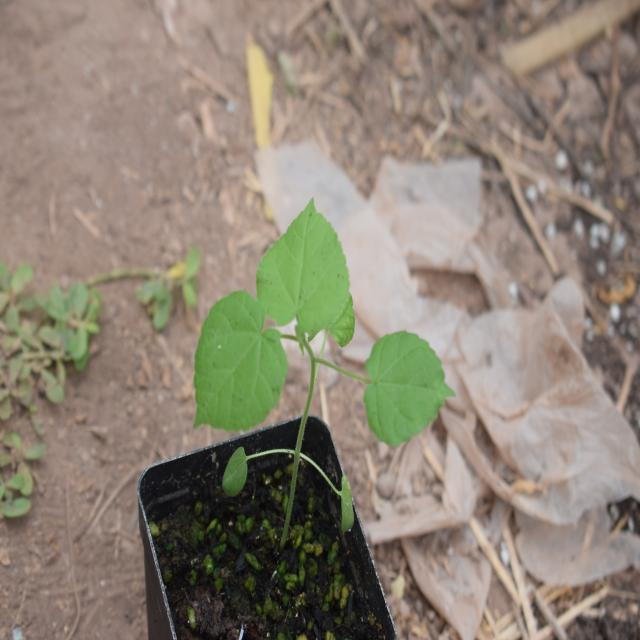abutilon theophrasti: (170, 178, 439, 486)
